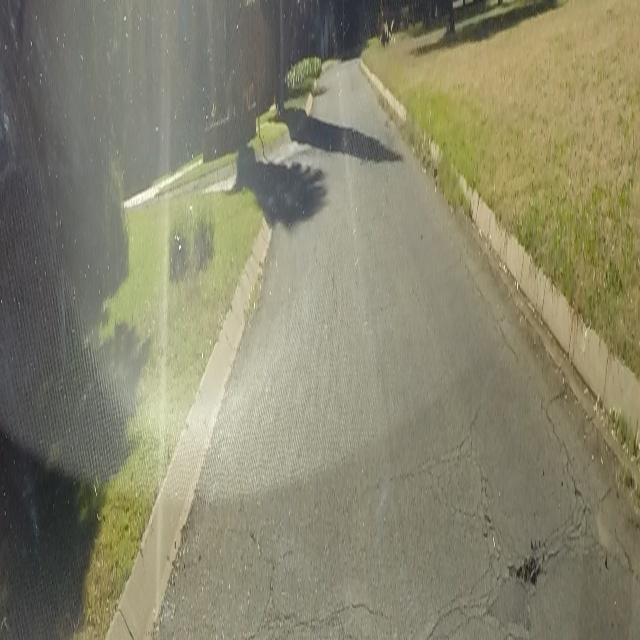pothole: (506, 536, 542, 592)
